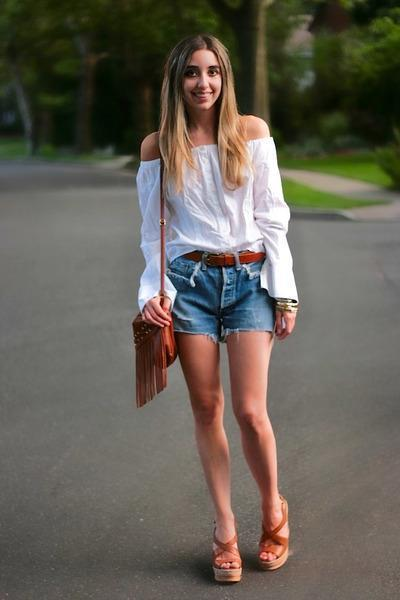bag: (132, 306, 177, 407)
shirt: (136, 132, 297, 299)
shoe: (194, 507, 291, 599)
shorts: (156, 244, 296, 341)
